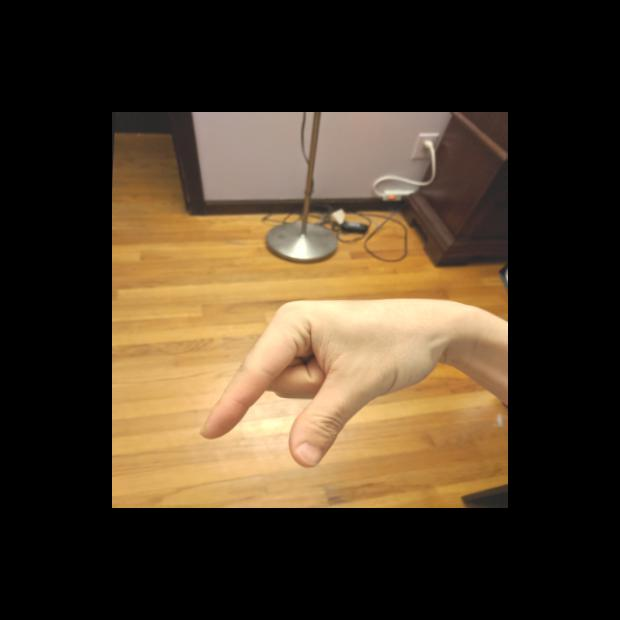P: (196, 286, 457, 475)
